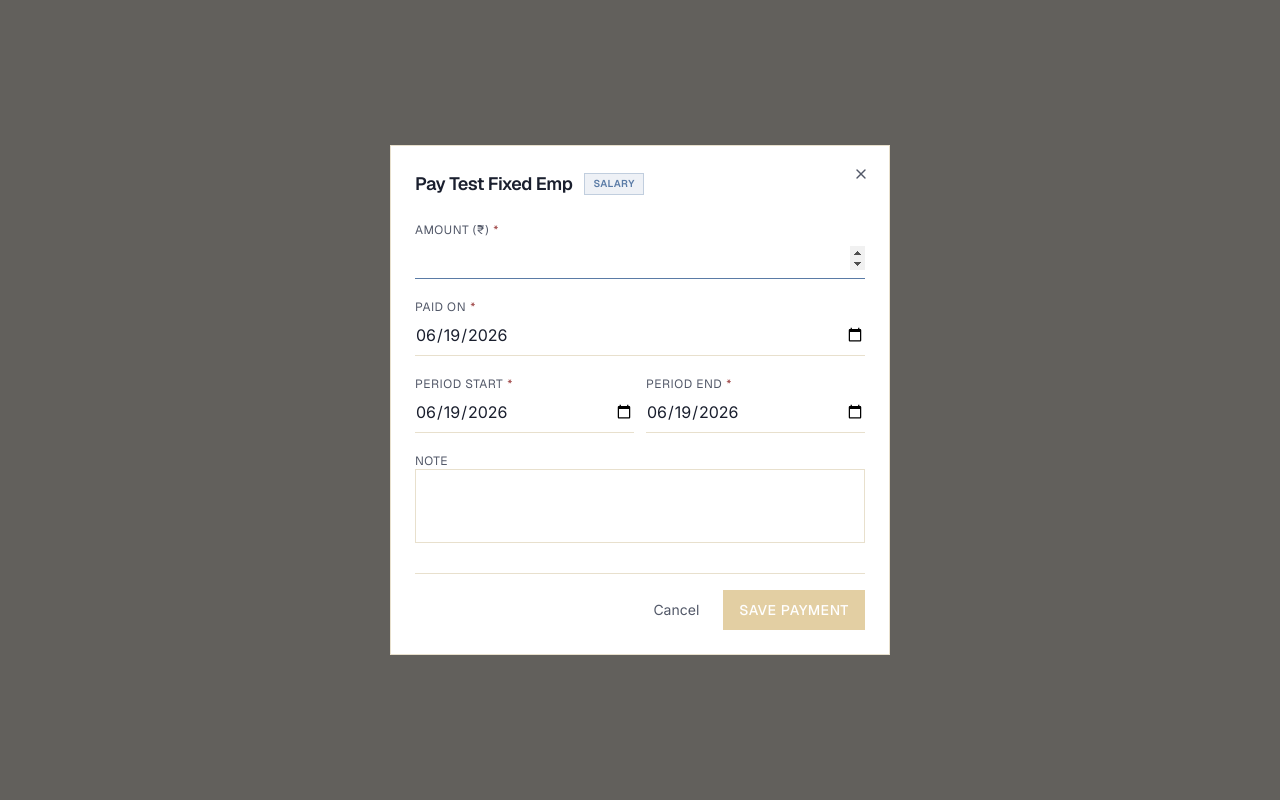
Scenario: EmployeePaymentModal › Save button enables after the user types a positive amount
The width and height of the screenshot is (1280, 800).
In the number field labelled "Amount (₹)*": (640, 258) [415,238,865,279], type "100"
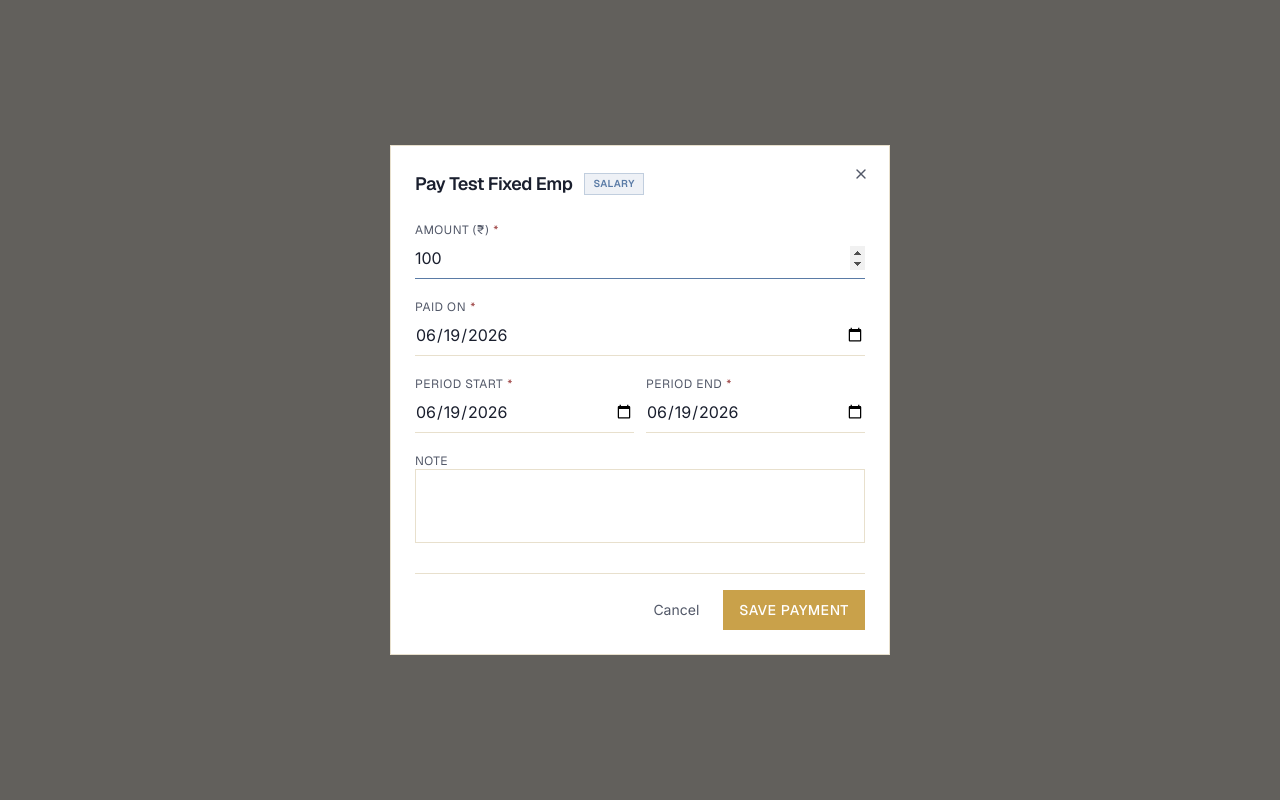
Check: the button with test id "employee-payment-save" is enabled, box [723,590,865,630]
